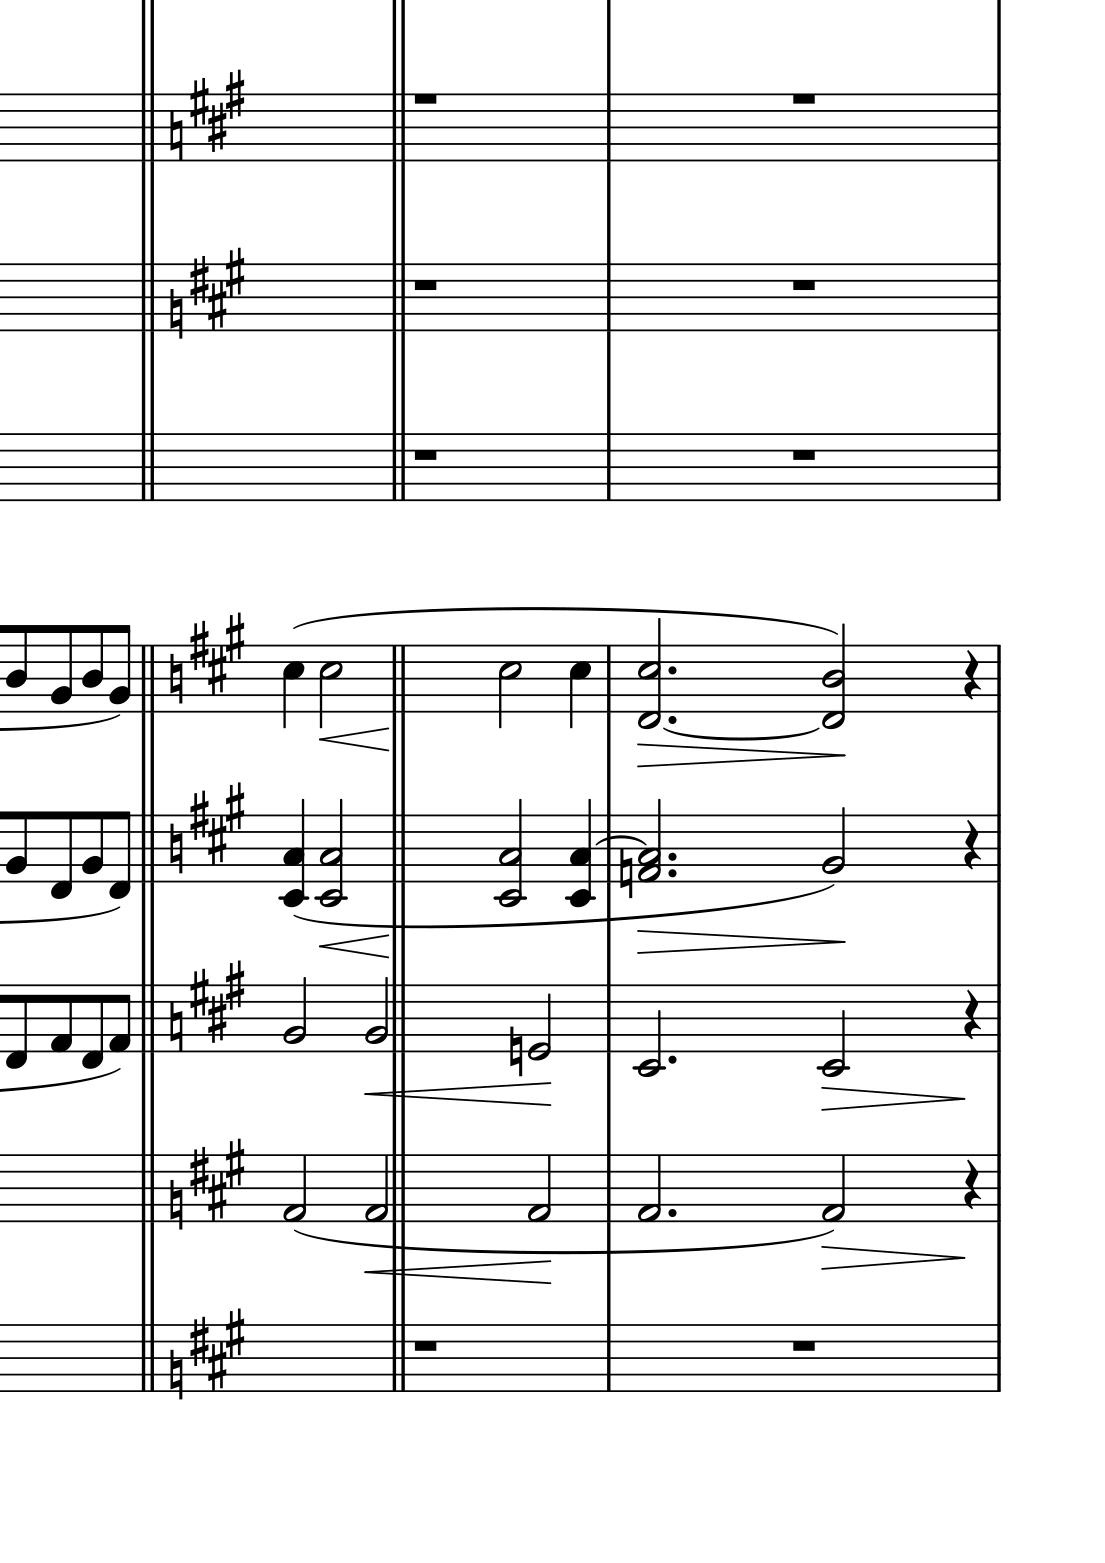2_-1_5: (636, 617, 663, 731), (819, 616, 845, 729)
2_-2: (631, 982, 664, 1080), (819, 982, 848, 1077)
2_-2_3: (313, 798, 350, 909), (490, 796, 527, 906)
2_0: (526, 981, 554, 1061)
2_1: (280, 1153, 309, 1225), (634, 1153, 663, 1225), (362, 1153, 390, 1225), (525, 1153, 552, 1225), (820, 1153, 848, 1225)
2_1_3: (636, 798, 663, 885)
2_2: (361, 973, 391, 1055), (281, 975, 310, 1055), (820, 805, 848, 886)
2_5: (317, 643, 344, 729), (496, 643, 523, 731)
4_-1: (79, 982, 103, 1069)
4_-2_3: (564, 798, 598, 908), (276, 796, 309, 906)
4_5: (280, 643, 305, 731), (567, 643, 591, 731)
8_-1: (48, 808, 74, 902), (106, 808, 132, 900), (4, 982, 28, 1070)
8_1: (47, 983, 74, 1054), (106, 984, 132, 1054)
8_2: (47, 623, 73, 714), (106, 623, 132, 714), (4, 808, 29, 884), (80, 808, 104, 884)
8_4: (80, 622, 104, 713), (4, 623, 28, 713)
A_S: (188, 1135, 248, 1223), (191, 776, 250, 866), (189, 1306, 248, 1393), (187, 67, 246, 152), (191, 610, 248, 698), (189, 246, 246, 330), (190, 961, 244, 1040)
Crescendo_hairpin: (367, 1258, 552, 1289), (361, 1079, 552, 1106), (322, 929, 389, 961), (320, 724, 390, 755)
Diminuendo_hairpin: (639, 740, 844, 768), (637, 929, 845, 953), (822, 1244, 966, 1271), (823, 1085, 961, 1111)
Double_barline: (132, 431, 164, 502), (383, 1324, 415, 1392), (383, 263, 414, 332), (384, 433, 415, 501), (383, 93, 413, 161), (384, 814, 413, 883), (133, 1154, 160, 1223), (386, 1155, 414, 1225), (134, 262, 160, 332), (134, 94, 161, 161), (134, 813, 159, 884), (385, 645, 410, 712), (387, 987, 413, 1054), (136, 985, 160, 1054), (135, 1325, 159, 1393), (136, 645, 158, 713)
Natural: (163, 286, 187, 340), (164, 822, 187, 877), (164, 1178, 187, 1233), (164, 1000, 187, 1054), (165, 1347, 187, 1402), (164, 110, 187, 161), (164, 652, 185, 706), (506, 1022, 524, 1077), (617, 844, 634, 899)
Rests1: (408, 444, 442, 465), (409, 274, 441, 295), (788, 444, 819, 465), (409, 88, 441, 109), (787, 88, 819, 109), (409, 1335, 441, 1355), (787, 1336, 819, 1355), (788, 275, 819, 294)
Rests4: (961, 649, 981, 702), (961, 1158, 979, 1211), (961, 818, 979, 871), (961, 988, 979, 1040)
Single_barline: (598, 94, 618, 160), (598, 264, 618, 330), (988, 987, 1007, 1052), (988, 1326, 1007, 1392), (599, 1326, 618, 1391), (989, 1154, 1007, 1222), (989, 94, 1007, 161), (600, 646, 618, 713), (600, 985, 618, 1052), (600, 1155, 618, 1222), (599, 434, 617, 500), (989, 816, 1007, 881), (598, 813, 615, 883), (989, 433, 1006, 501), (989, 264, 1006, 331), (990, 645, 1006, 712)
Slur: (294, 1227, 834, 1252), (293, 608, 834, 631), (667, 724, 823, 741), (598, 834, 648, 845)
dot: (665, 663, 680, 679), (665, 712, 680, 727), (665, 849, 679, 863), (665, 1052, 679, 1067), (665, 1205, 679, 1220), (665, 867, 679, 879)
